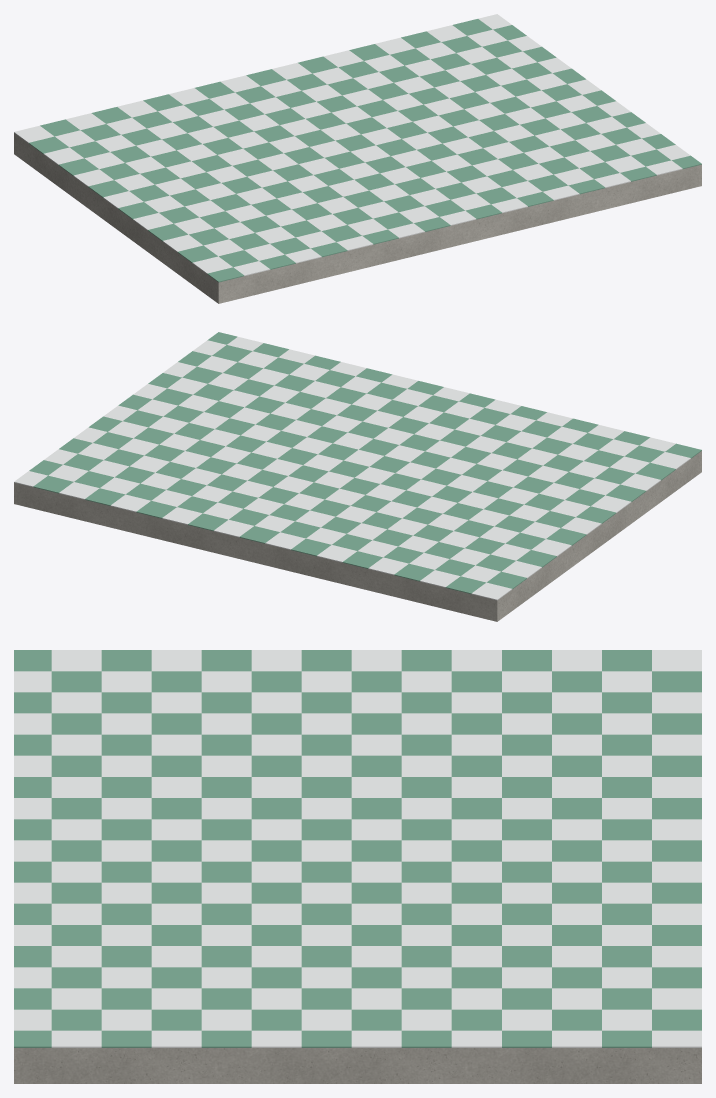
File: c_floor.glb
The picture shows the model from 3 angles, top to bottom: view 1: azimuth 30°, elevation 25°; view 2: azimuth 150°, elevation 25°; view 3: azimuth 270°, elevation 25°; orthographic projection. The views are drawn at different scales.
Visible parts, largest first — view 1: c_floor_tile, c_floor_tile_b, c_floor_concrete; view 2: c_floor_tile, c_floor_tile_b, c_floor_concrete; view 3: c_floor_tile, c_floor_tile_b, c_floor_concrete.
Boxes of the visible parts, box(x1,y1,x2,y2) form: c_floor_tile: box(14, 14, 690, 275); c_floor_tile_b: box(29, 19, 701, 282); c_floor_concrete: box(14, 133, 701, 303); c_floor_tile: box(14, 337, 690, 600); c_floor_tile_b: box(29, 332, 701, 593); c_floor_concrete: box(14, 451, 701, 621); c_floor_tile: box(14, 650, 701, 1047); c_floor_tile_b: box(14, 650, 701, 1047); c_floor_concrete: box(14, 1048, 701, 1083).
Size of the model in its own units: 7.5 by 0.33 by 5.5.
Materials: 3 (1 with a texture image).
